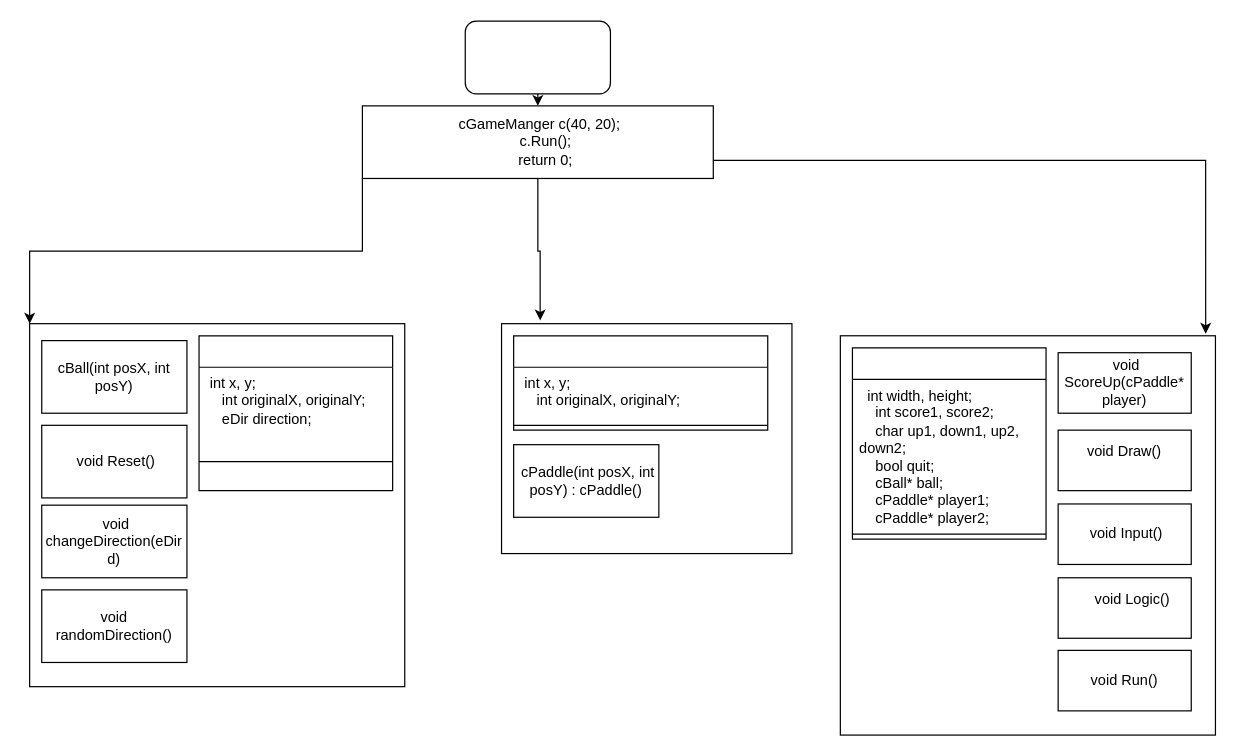
Some shapes in this 1237 by 756 pixel diagram are drawn without their labels. The shapes that lost their labels are listed below. From the top down, each one's box as (x1, y1, x2, y2) in pixels, then its label:
(464, 20, 610, 94): Main
(512, 335, 768, 430): cPaddle
(198, 335, 393, 491): cBall
(851, 347, 1046, 539): GameManger
